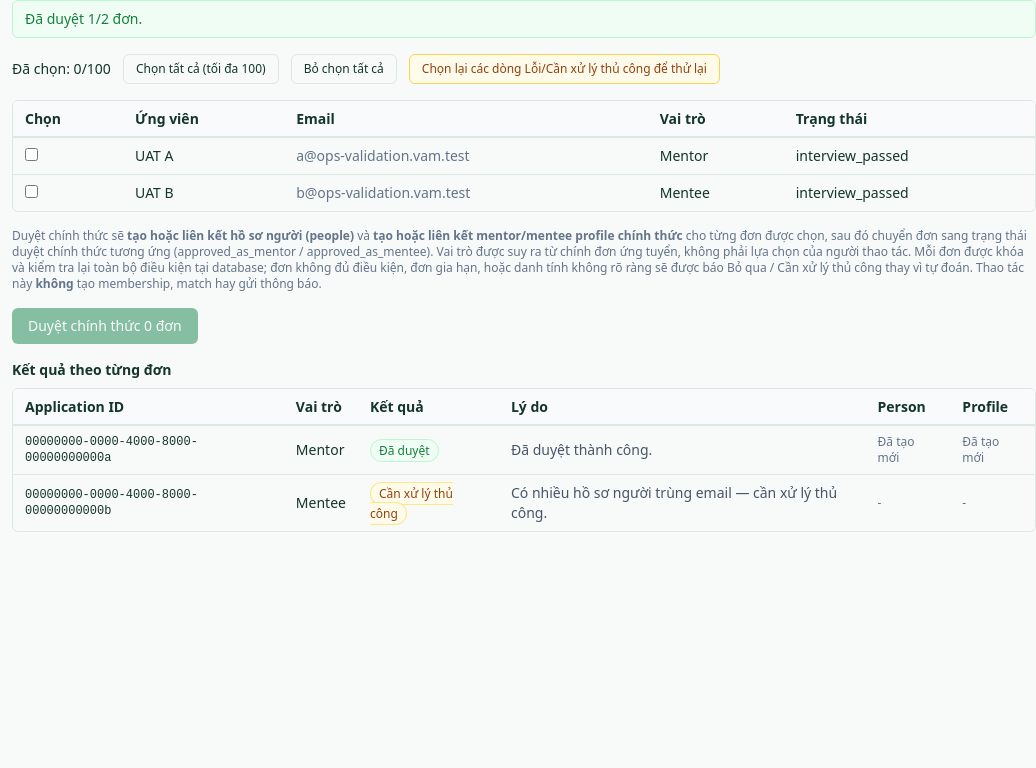
M092 — the mutating submit is guarded › re-selects only unresolved rows for retry, never the approved ones
Click the button "Chọn lại các dòng Lỗi/Cần xử lý thủ công để thử lại" at (564, 69), box [409,54,720,84]
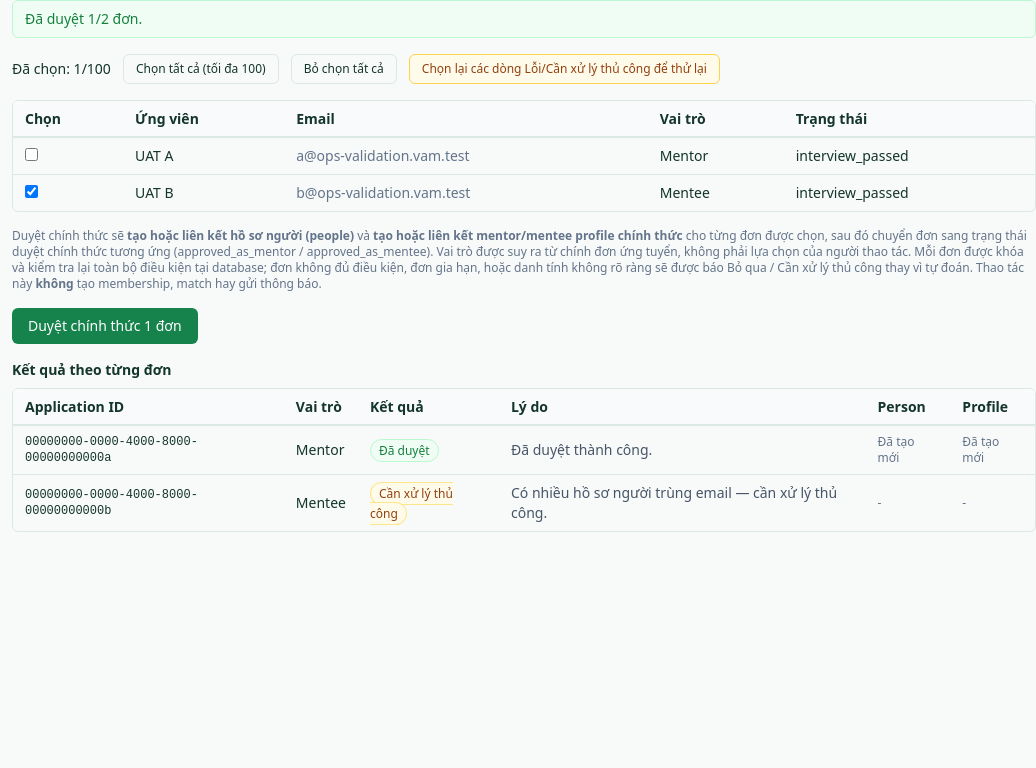
Expected: the checkbox next to "UAT A" is not checked, [25,148,38,161]
Expected: the checkbox next to "UAT B" is checked, [25,185,38,198]
